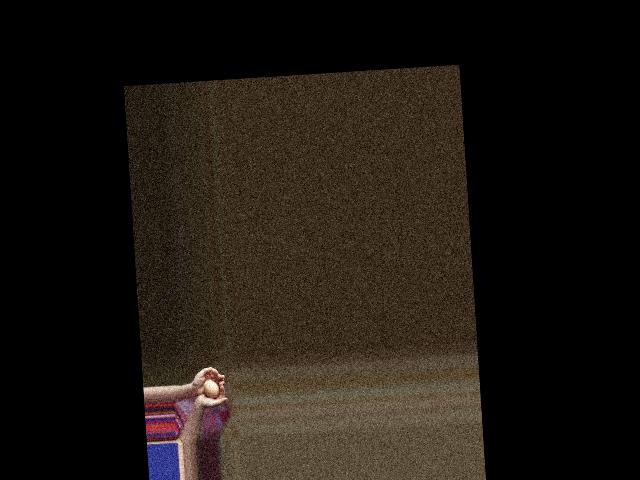egg: (204, 379, 220, 399)
